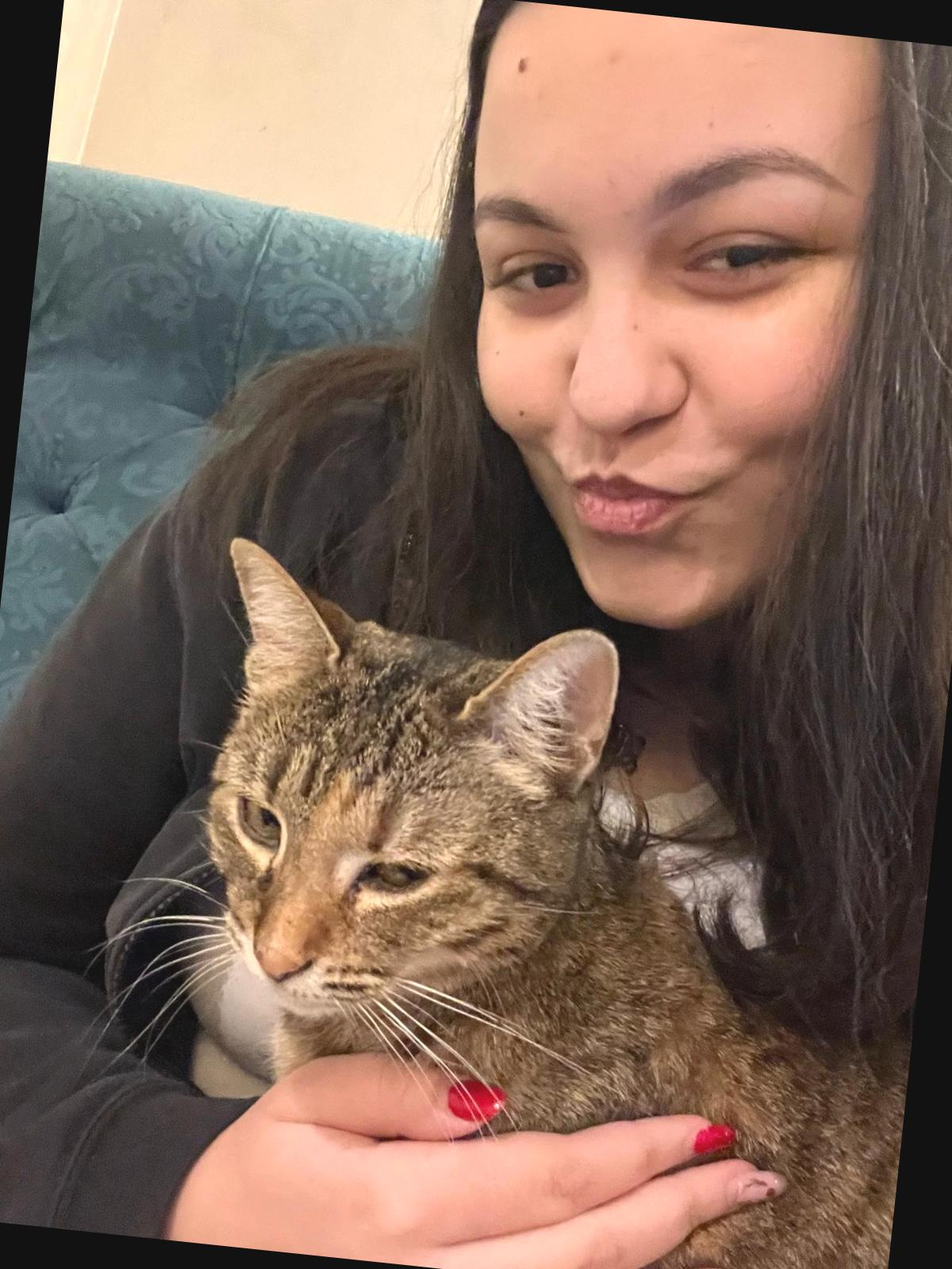macka: (155, 533, 952, 1269)
